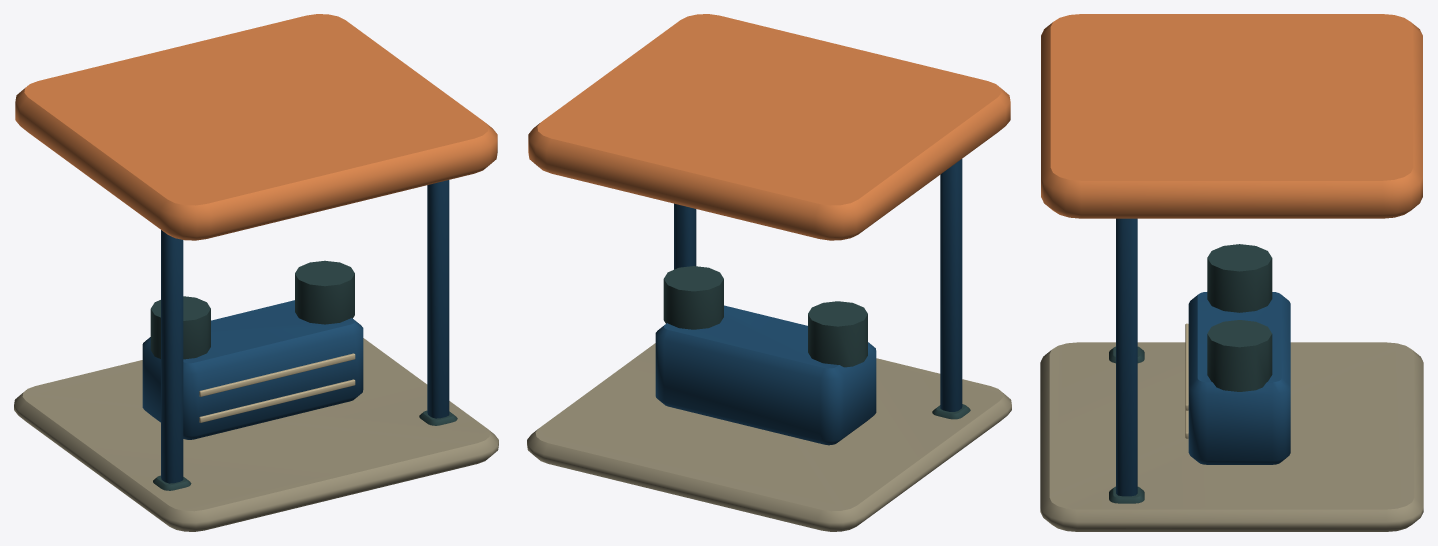
The model's file is metro_dealership_2.glb.
3 views of the same model, side by side, from view 1: azimuth 30°, elevation 25°; view 2: azimuth 150°, elevation 25°; view 3: azimuth 270°, elevation 25° (orthographic). The views are drawn at different scales.
Parts seen in each view (by area): view 1: Dealership2; view 2: Dealership2; view 3: Dealership2.
Part boxes in pixels (bbox=[...]): Dealership2: bbox=[14, 14, 498, 531]; Dealership2: bbox=[527, 14, 1011, 531]; Dealership2: bbox=[1040, 14, 1423, 531].
Bounding box in the file's own units: 2.68 × 2.51 × 2.48.
